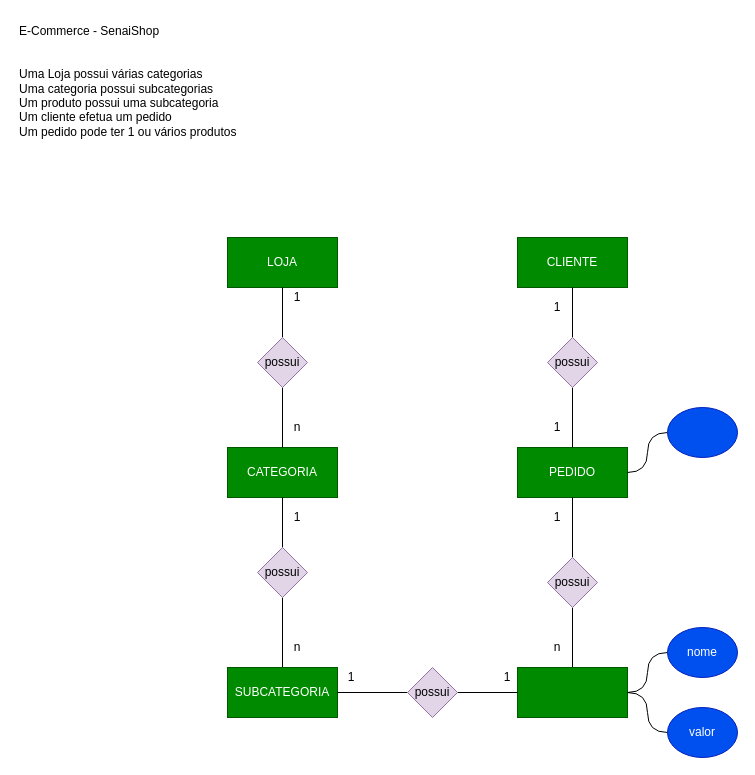
Some shapes in this 755 by 775 pixel diagram are drawn without their labels. The shapes that lost their labels are listed below. From the top down, each one's box as (x1, y1, x2, y2) in pixels, then its label:
(666, 406, 738, 458): numero
(516, 666, 628, 718): PRODUTO
